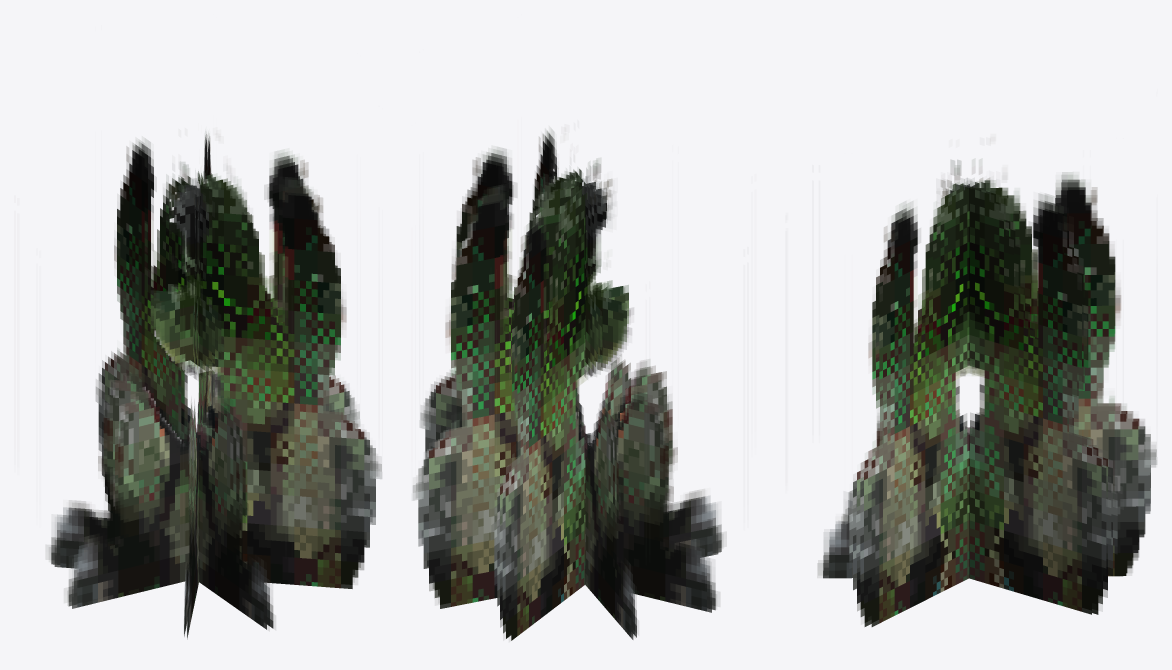
The model's file is Environment - Debris and Ruins - Rubble Mound - Debris - PMPrklyPrS_d.glb.
3 renders of one model, left to right at view 1: azimuth 30°, elevation 25°; view 2: azimuth 150°, elevation 25°; view 3: azimuth 270°, elevation 25°, orthographic.
Visible parts, largest first — view 1: PMPRKLYPRS_D; view 2: PMPRKLYPRS_D; view 3: PMPRKLYPRS_D.
Part boxes in pixels (bbox=[...]): PMPRKLYPRS_D: bbox=[48, 132, 381, 639]; PMPRKLYPRS_D: bbox=[412, 129, 723, 640]; PMPRKLYPRS_D: bbox=[818, 158, 1157, 626].
Bounding box in the file's own units: 8.52 × 12.21 × 8.52.
Materials: 1 (1 with a texture image).
